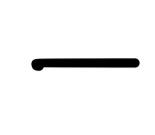minus: (30, 58, 139, 71)
